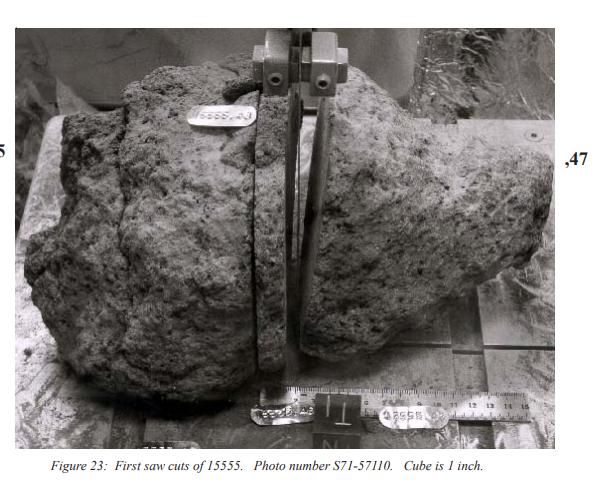Basalt: (54, 105, 248, 395), (355, 89, 547, 330)
